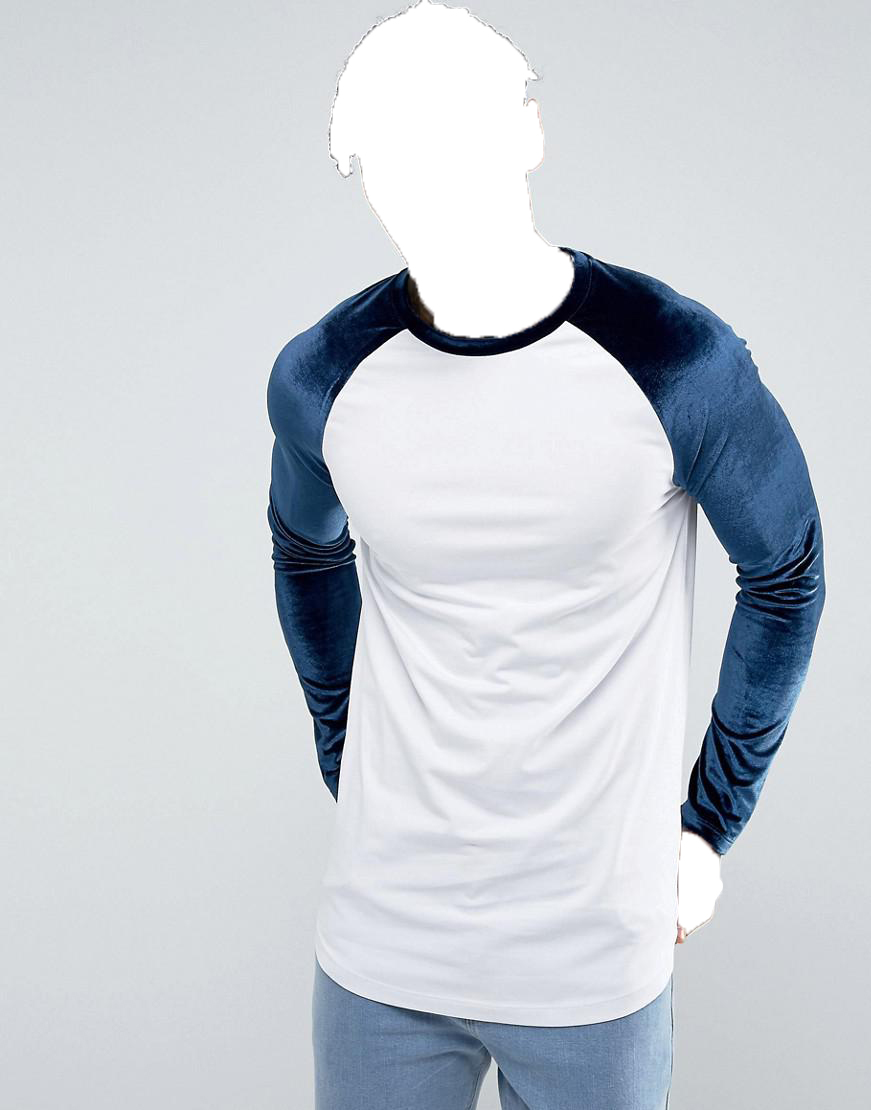teeshirt: (240, 254, 834, 1035)
